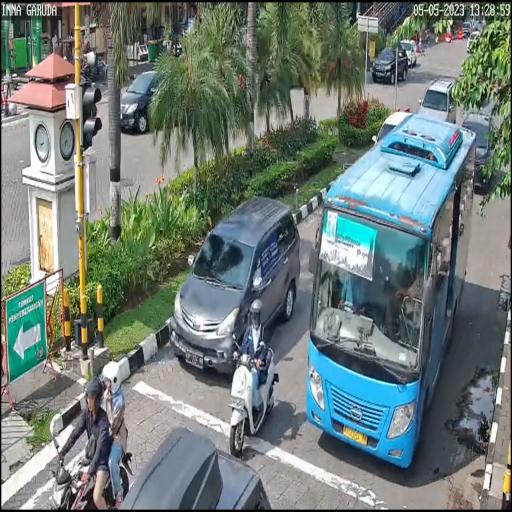mobil: (304, 110, 478, 470), (171, 193, 304, 376)
motor: (227, 344, 280, 456), (49, 443, 131, 512)
